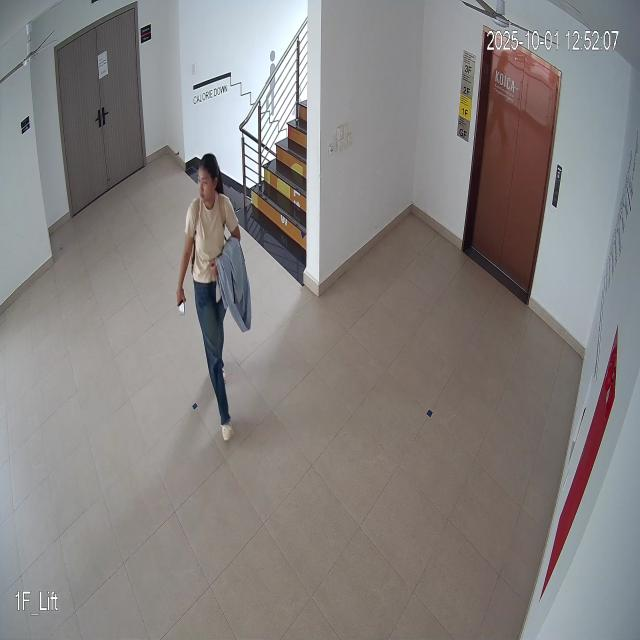face: (192, 144, 222, 207)
